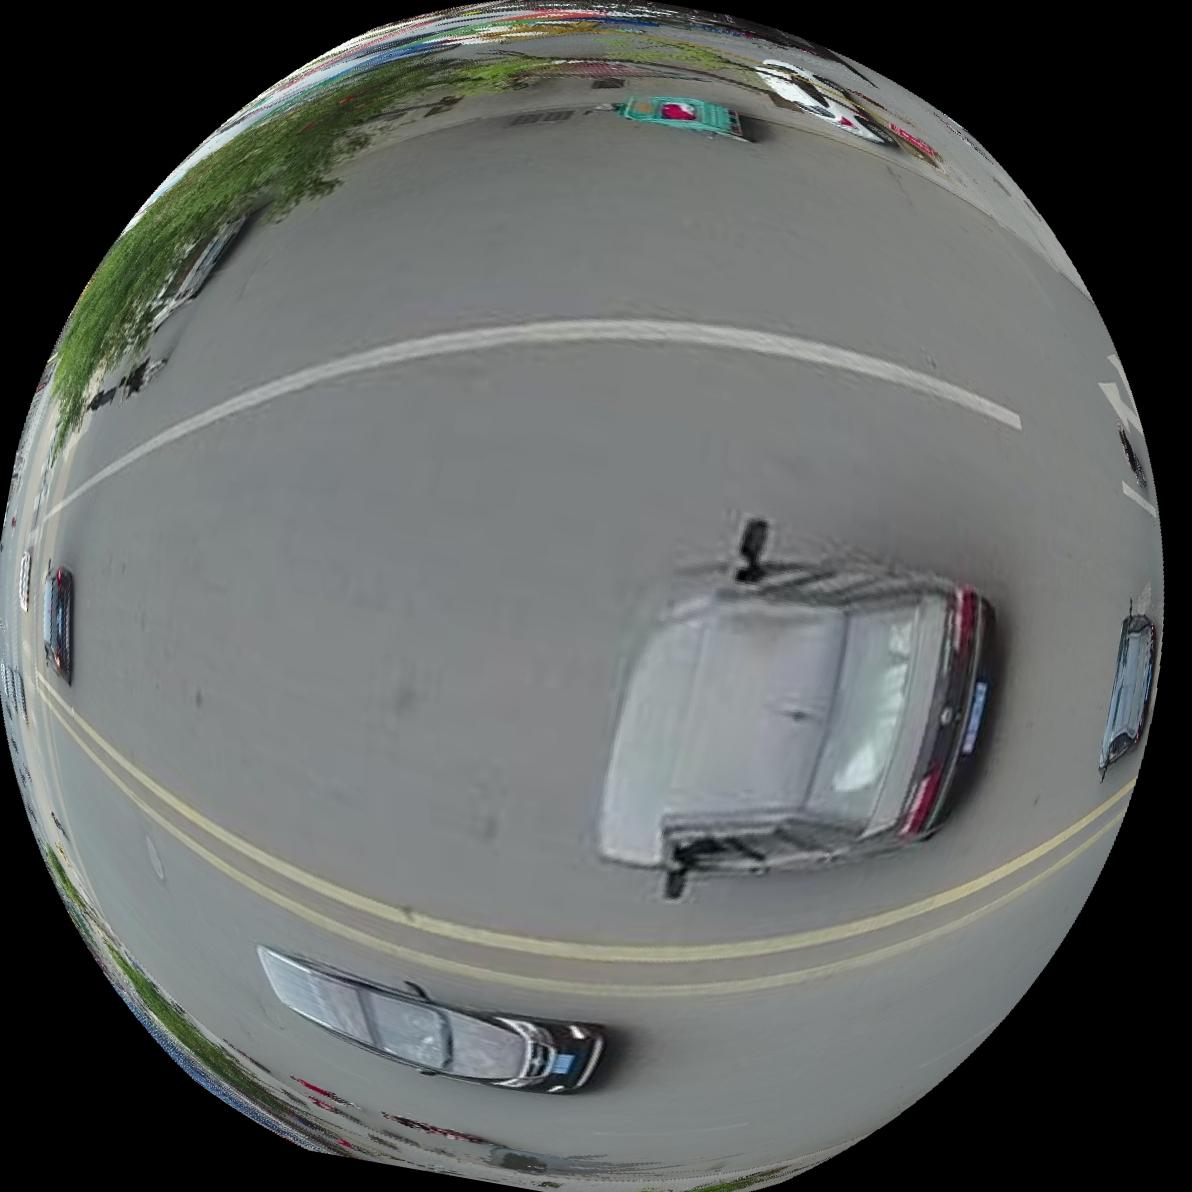cars: (598, 517, 994, 899), (257, 947, 606, 1094), (1101, 612, 1158, 776), (42, 564, 71, 684)
trees: (49, 46, 535, 456), (757, 55, 895, 143)
